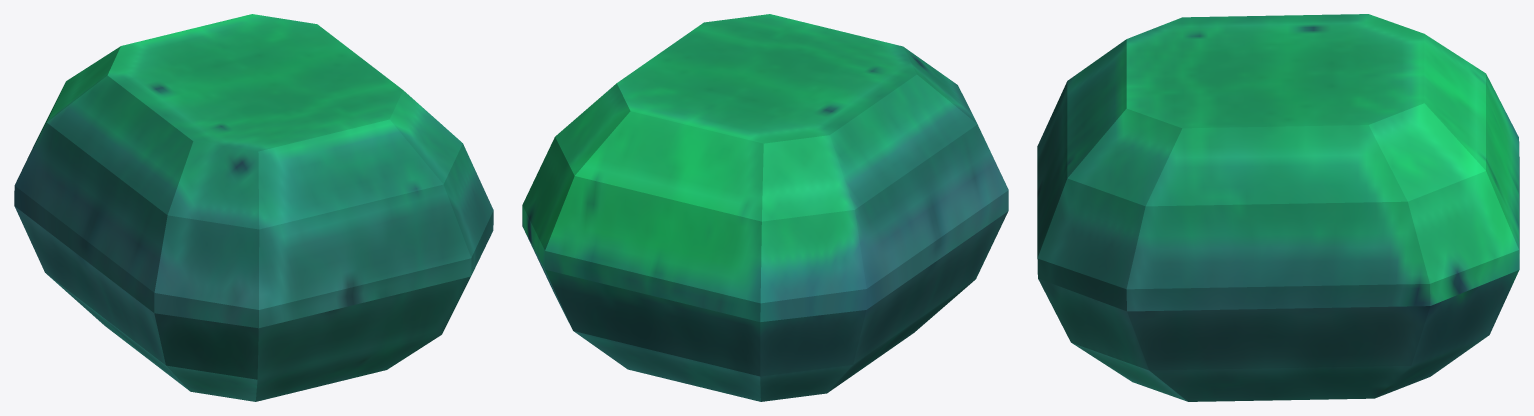
Rendered from gem_green.glb.
The picture shows the model from 3 angles, left to right: view 1: azimuth 30°, elevation 25°; view 2: azimuth 150°, elevation 25°; view 3: azimuth 270°, elevation 25°; orthographic projection. The views are drawn at different scales.
Parts seen in each view (by area): view 1: Gemstone_03.002; view 2: Gemstone_03.002; view 3: Gemstone_03.002.
Part boxes in pixels (x1,y1,x2,y2): Gemstone_03.002: [14, 14, 493, 401]; Gemstone_03.002: [522, 14, 1008, 401]; Gemstone_03.002: [1037, 14, 1519, 401].
Bounding box in the file's own units: 2.74 × 1.99 × 3.11.
Materials: 1 (1 with a texture image).
